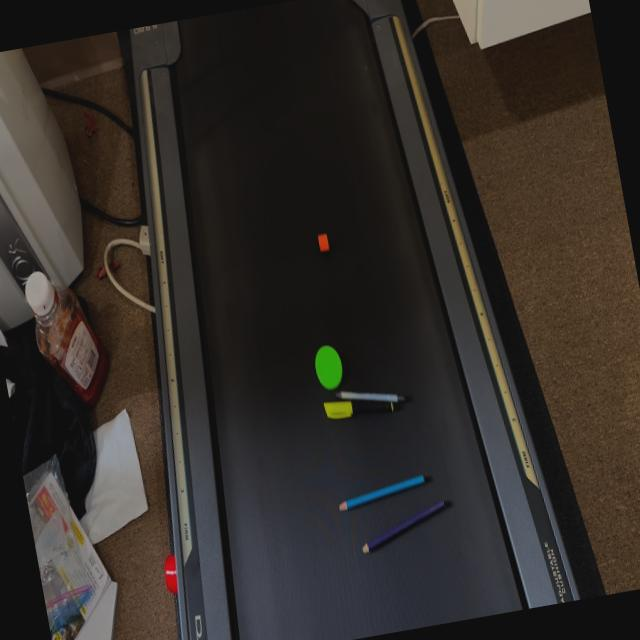Recycle: (312, 342, 346, 392), (316, 230, 330, 253)
Trash: (356, 496, 452, 554), (335, 469, 435, 512), (322, 388, 401, 426), (338, 378, 408, 412)
